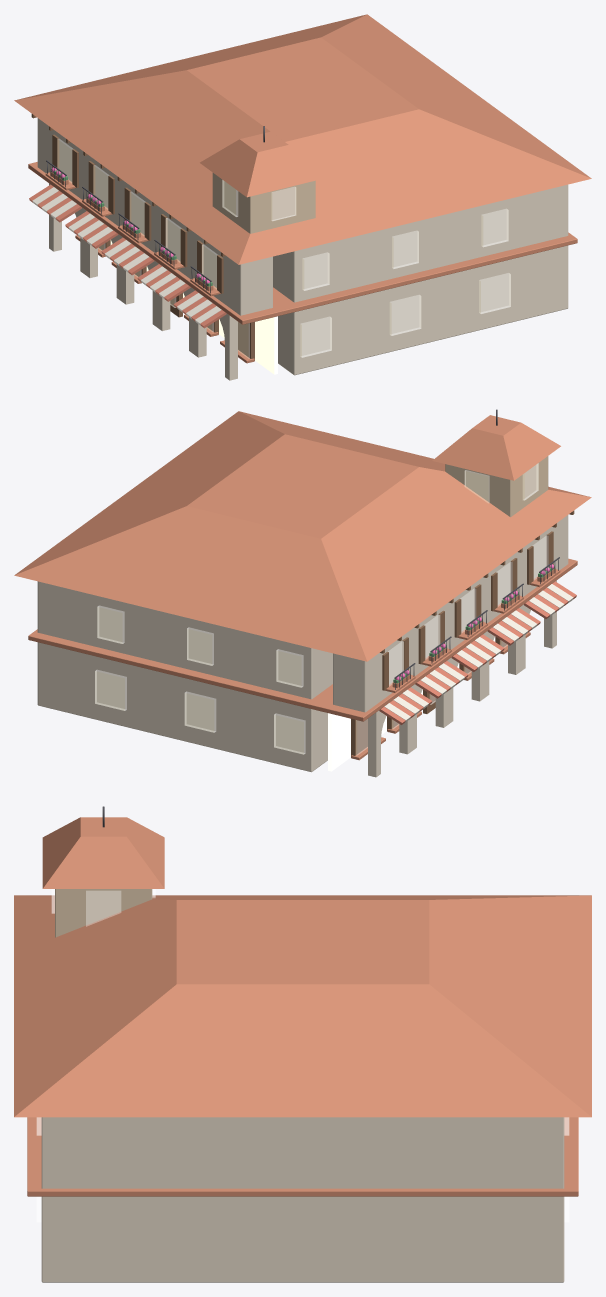
The model's file is building_cafe_habana.glb.
3 views of the same model, one above another, from view 1: azimuth 30°, elevation 25°; view 2: azimuth 150°, elevation 25°; view 3: azimuth 270°, elevation 25° (orthographic). The views are drawn at different scales.
Visible parts, largest first — view 1: VillaCore; view 2: VillaCore; view 3: VillaCore.
Part boxes in pixels (x1,y1,x2,y2): VillaCore: (14, 14, 591, 380); VillaCore: (14, 409, 591, 777); VillaCore: (14, 806, 591, 1282).
Bounding box in the file's own units: 24.38 × 14.95 × 26.1.
